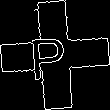P_N: (35, 28, 75, 82)
